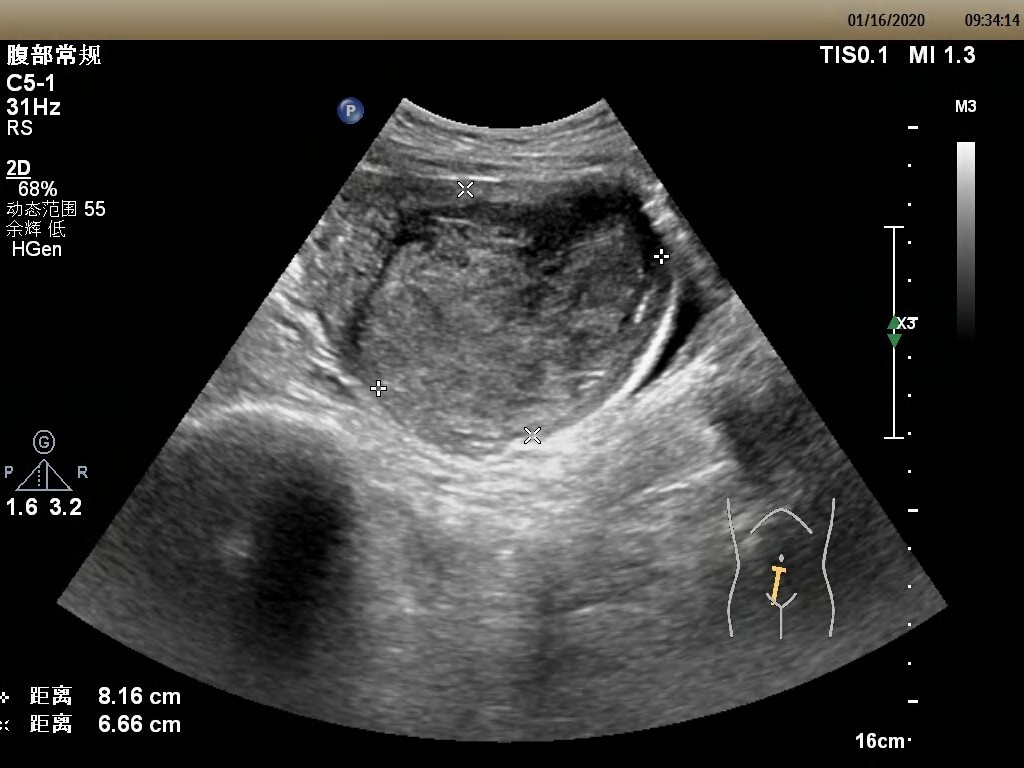肌瘤: (378, 190, 665, 435)
